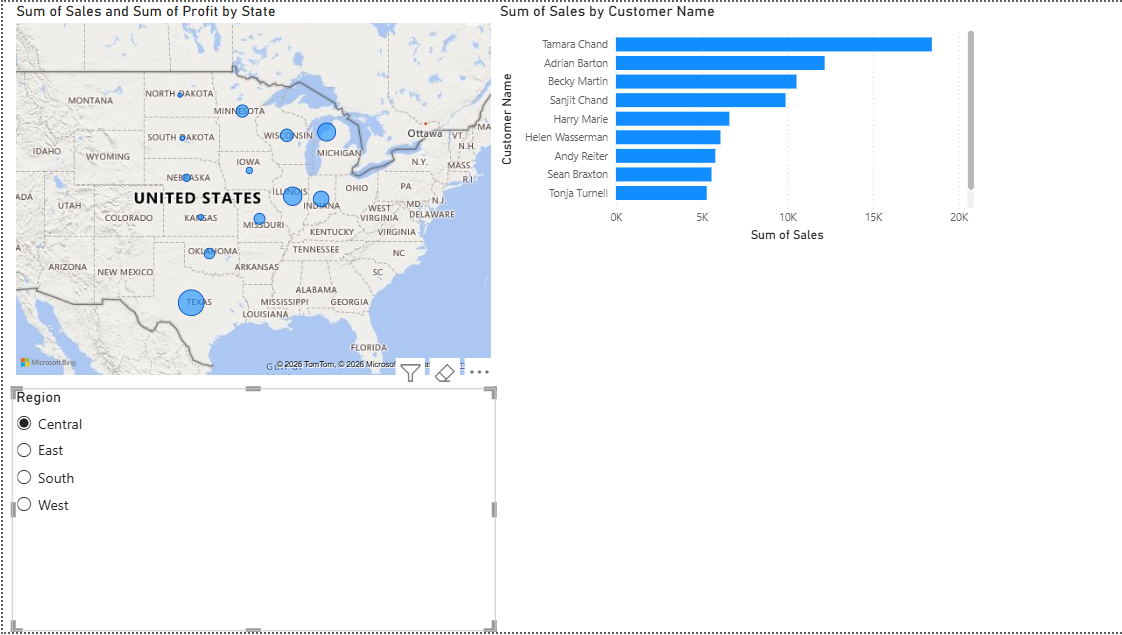

This screenshot's page, from the dashboard's own definition file:
{"tool":"powerbi","page":{"name":"Customer & Geography","canvas":[1280,720],"ordinal":2},"visuals":[{"type":"map","fields":{"Category":["Sample - Superstore (2).State"],"Size":["Sum(Sample - Superstore (2).Sales)"]},"box":[10,0,552.5,431.2],"z":0},{"type":"clusteredBarChart","fields":{"Category":["Sample - Superstore (2).Customer Name"],"Y":["Sum(Sample - Superstore (2).Sales)"]},"box":[562.5,0,552.5,278.8],"z":1000},{"type":"listSlicer","fields":{"Values":["Sample - Superstore (2).Region"]},"box":[10,441,553,279],"z":2000}]}

Visuals, with their boxes in screenshot pixels (x1, y1, x2, y2), scaled from the page's 1280x720 canvas onto the 1122x635 screenshot:
map - Sample - Superstore (2).State x Sum(Sample - Superstore (2).Sales): 9 0 493 380
clusteredBarChart - Sample - Superstore (2).Customer Name x Sum(Sample - Superstore (2).Sales): 493 0 977 246
listSlicer - Sample - Superstore (2).Region: 9 389 494 634
